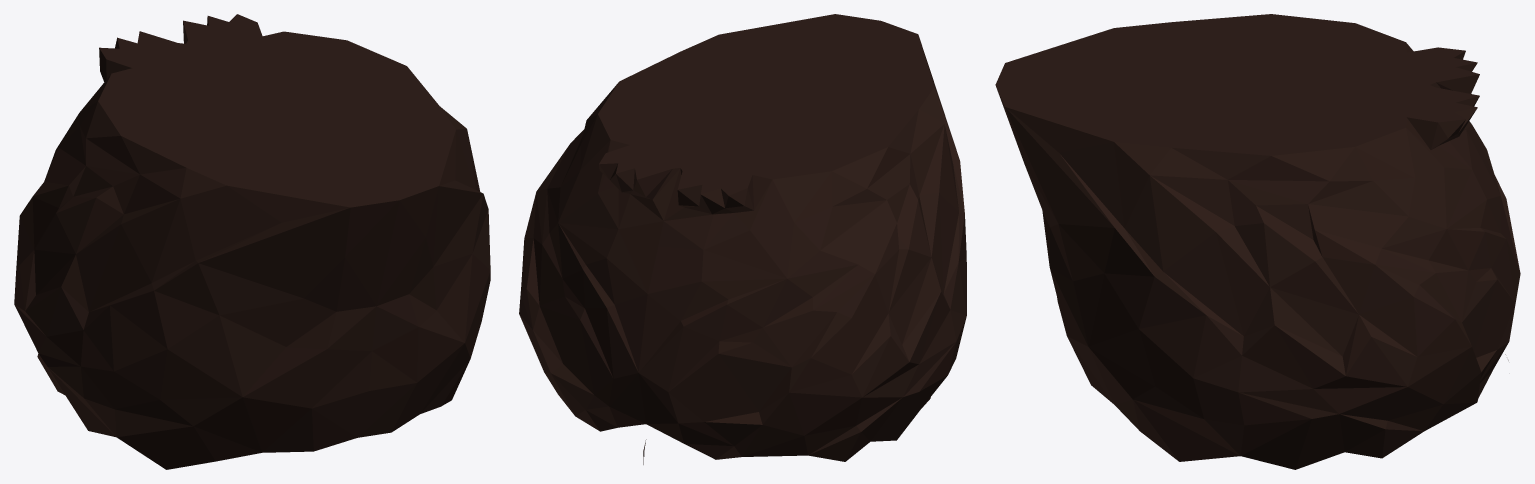
The model's file is OwlBody.obj.
The picture shows the model from 3 angles, left to right: view 1: azimuth 30°, elevation 25°; view 2: azimuth 150°, elevation 25°; view 3: azimuth 270°, elevation 25°; orthographic projection. The views are drawn at different scales.
Parts seen in each view (by area): view 1: LowPolyOwlBody; view 2: LowPolyOwlBody; view 3: LowPolyOwlBody.
Part boxes in pixels (x1,y1,x2,y2): LowPolyOwlBody: (14,14,490,469); LowPolyOwlBody: (519,14,966,464); LowPolyOwlBody: (995,14,1520,469).
Size of the model in its own units: 40.55 by 28.85 by 44.84.
